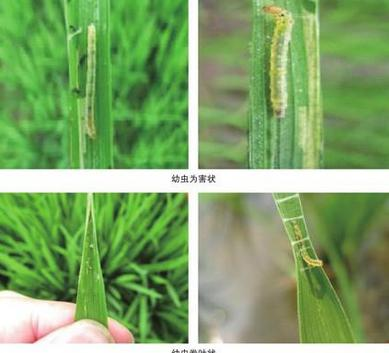pest: (266, 6, 290, 119), (84, 24, 99, 139), (291, 217, 323, 267)
